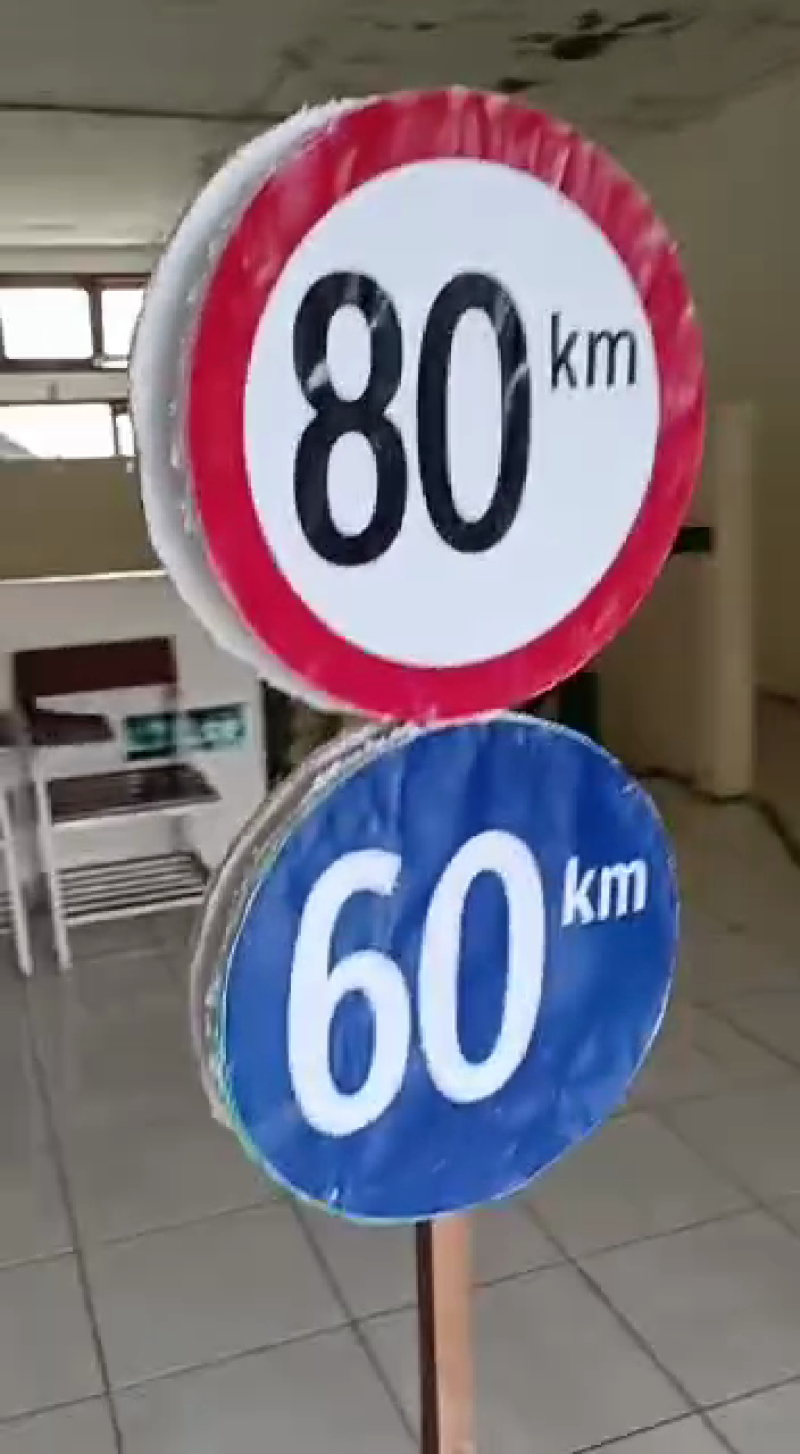batas maksimal 80kmperjam minimal 60kmperjam: (163, 60, 720, 1231)
